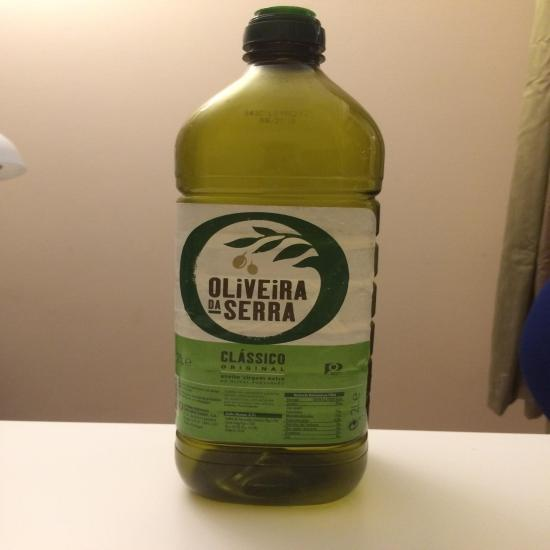Other plastic container: (174, 6, 385, 506)
